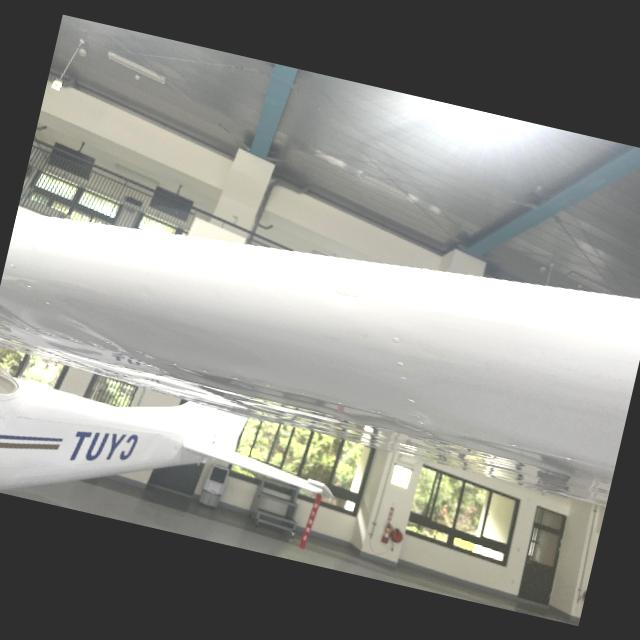dent: (308, 276, 384, 316)
